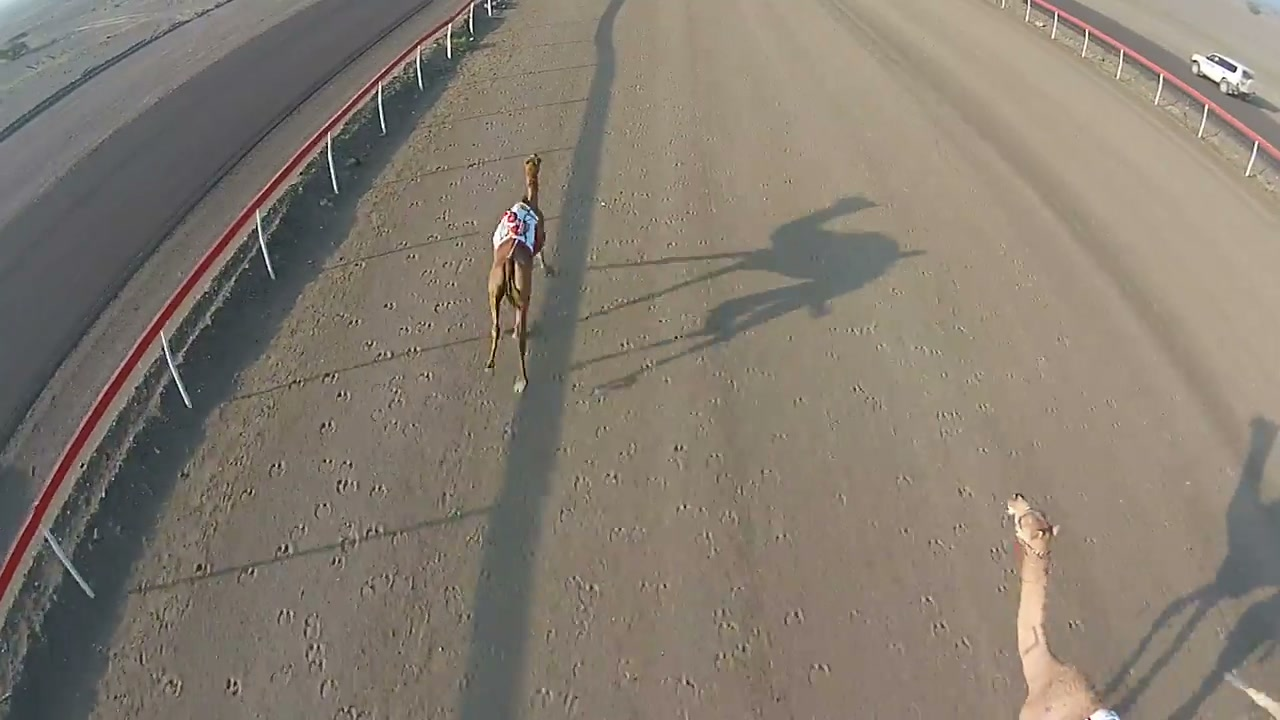animal_footprint: (131, 271, 431, 715), (514, 378, 793, 709)
